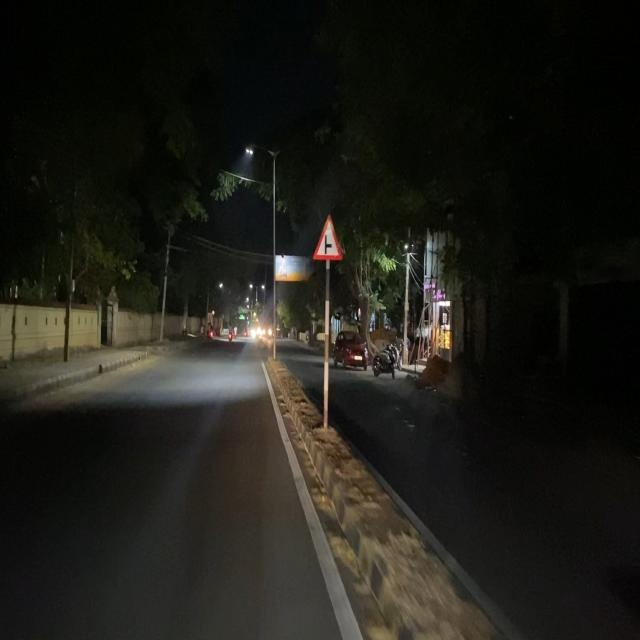bien_nguy_hiem: (313, 209, 342, 262)
